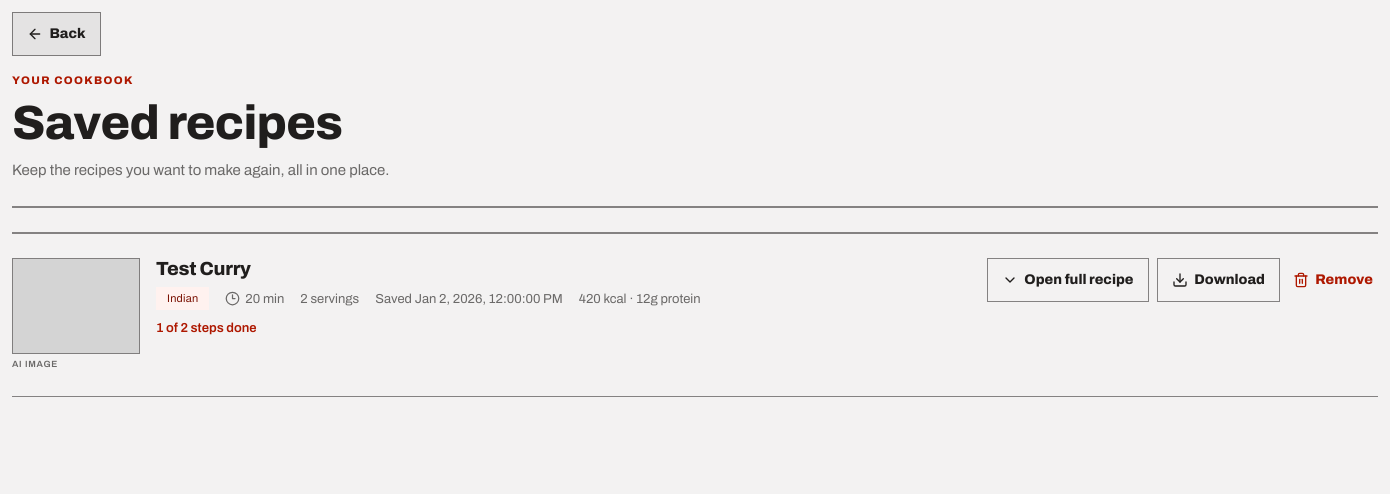
Test: SavedRecipesScreen › moves focus to the saved recipes heading after removing the final entry
Click the button "Remove": (1333, 280) [1288,258,1378,302]
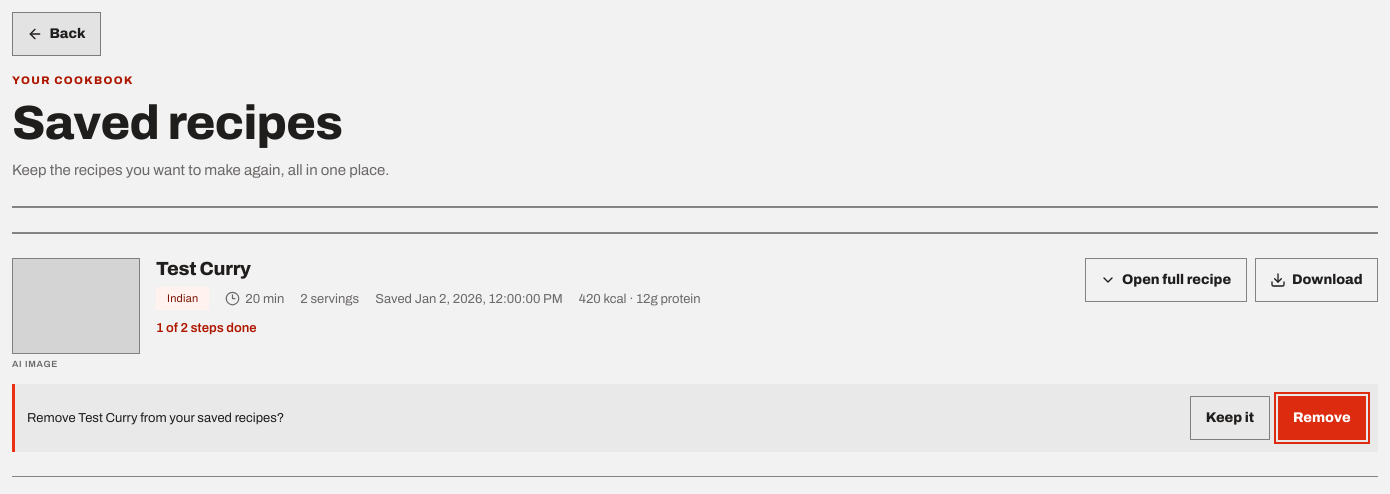
Click the button "Remove": (1322, 418) [1278,396,1366,440]
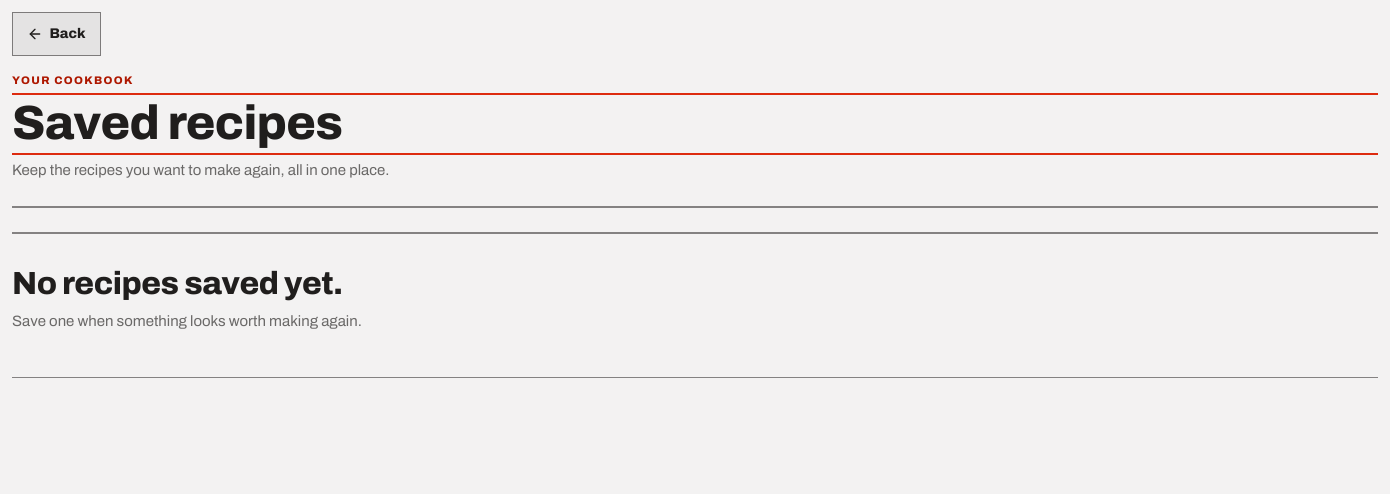
Now the heading "No recipes saved yet." is shown, box [12,266,343,301]
